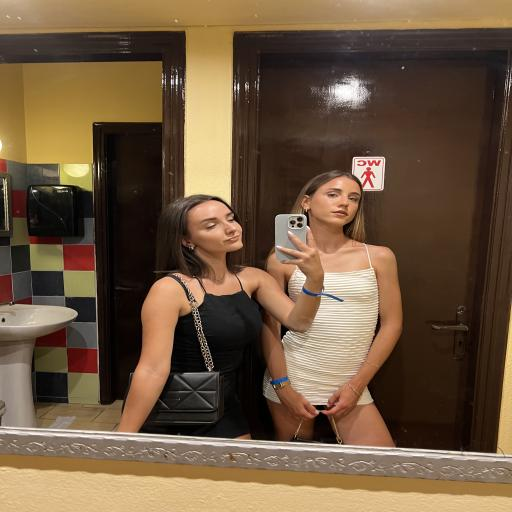masa: (312, 175, 367, 228)
